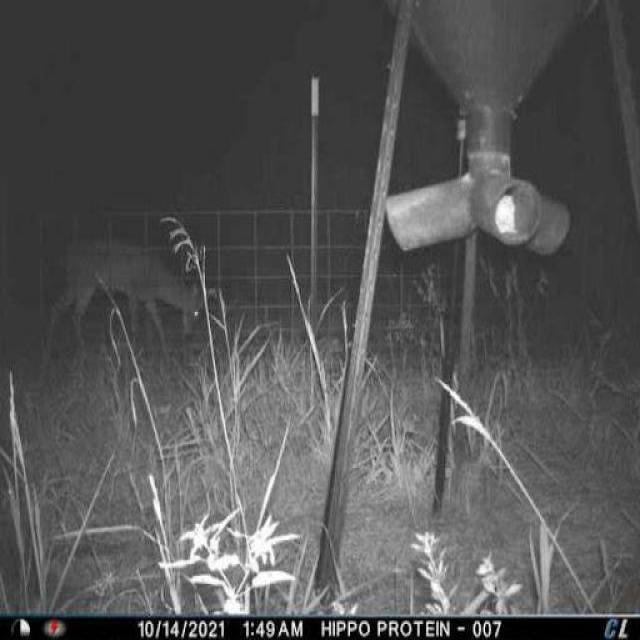deer: (36, 223, 215, 377)
